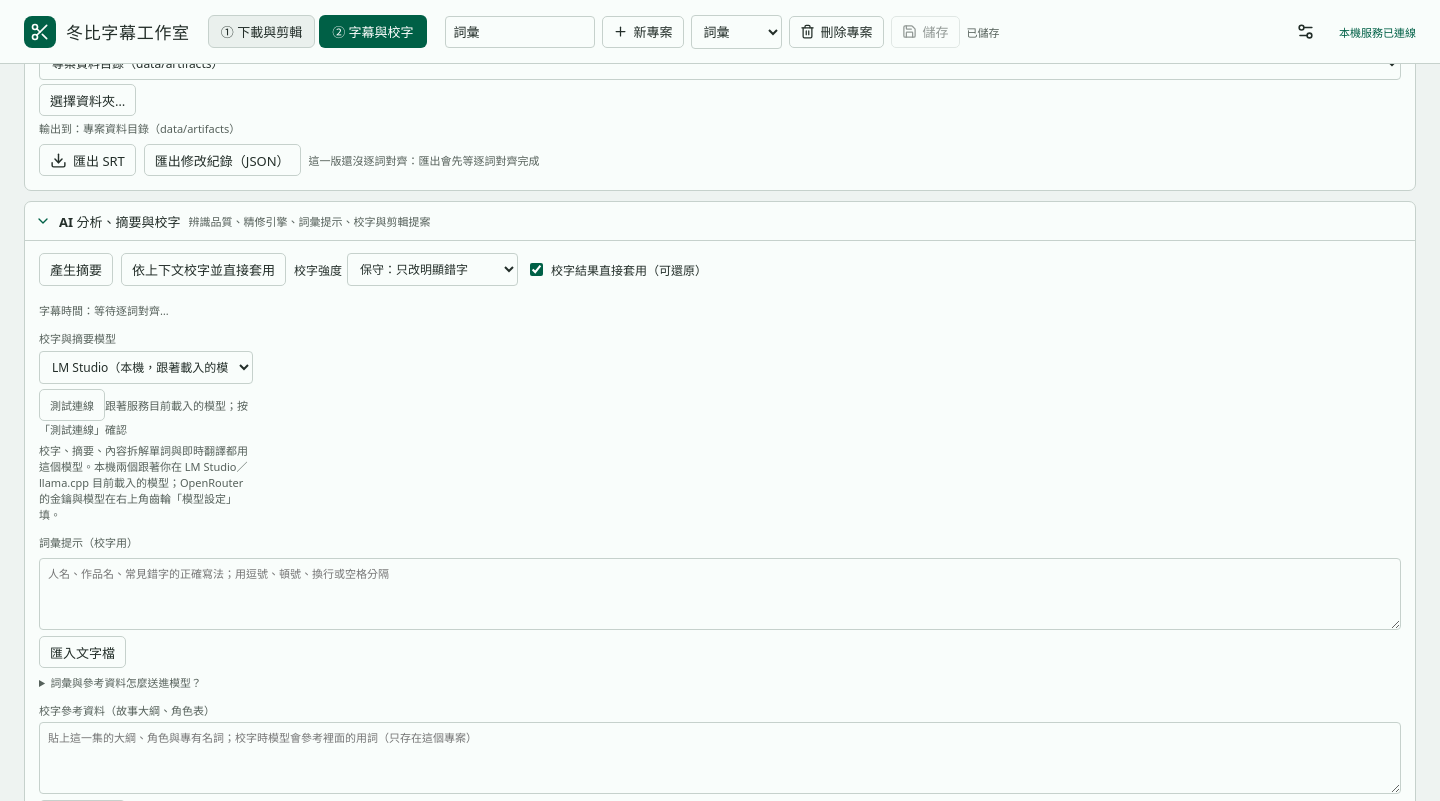
Test: offers only the three model ports and tests the connection to show what is loaded
(page scrolled)
Check: the button "依上下文校字並直接套用" is enabled, box [121,253,286,286]
Click the button "測試連線" at (72, 405), box [39,389,105,421]
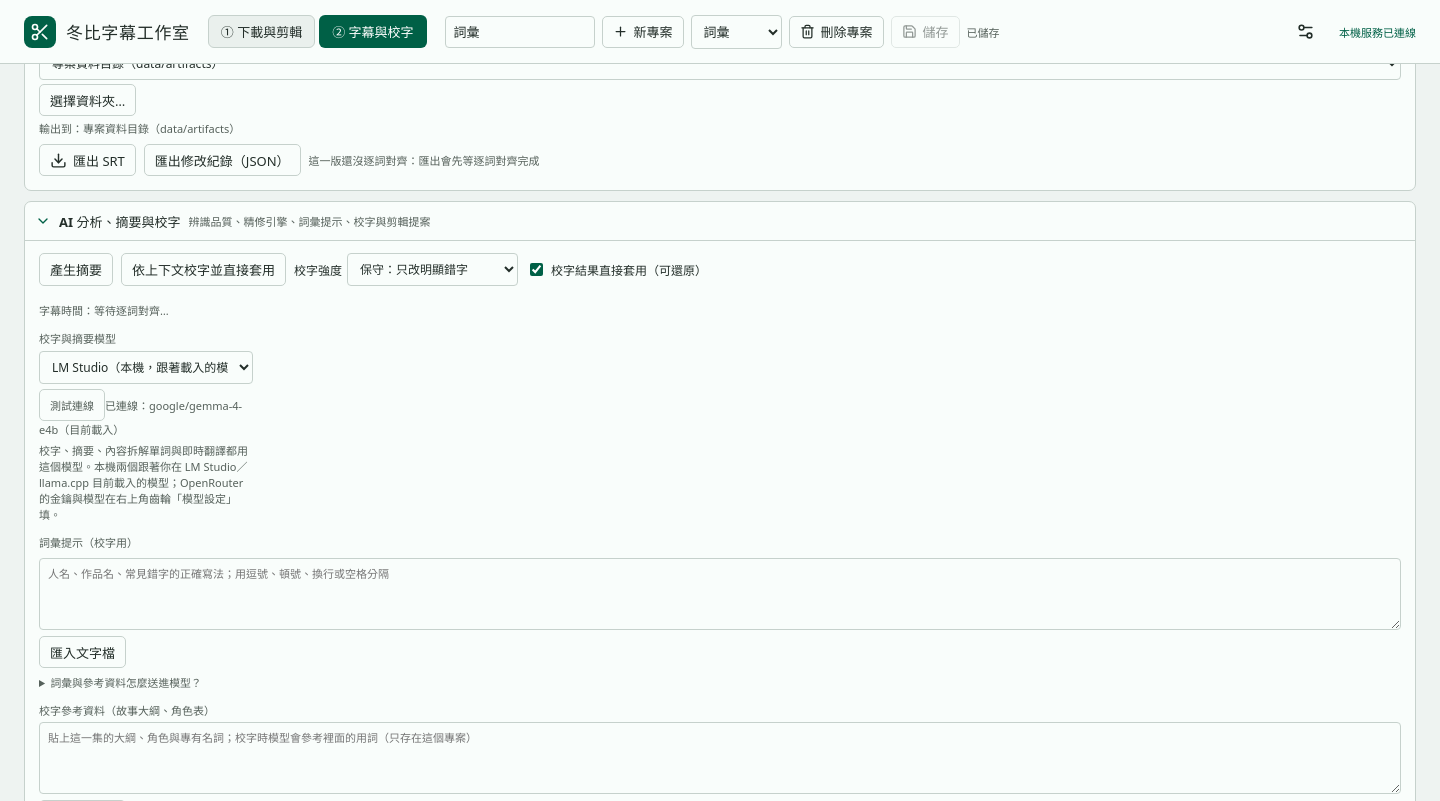
Check: the text "已連線：google/gemma-4-e4b（目前載入）" is shown, box [39,398,242,437]
遠端：看後台有沒有金鑰、用哪一個模型
Select "OpenRouter（遠端 API，需金鑰）" in the dropdown labelled "校字與摘要模型" at (146, 368), box [39,351,253,384]
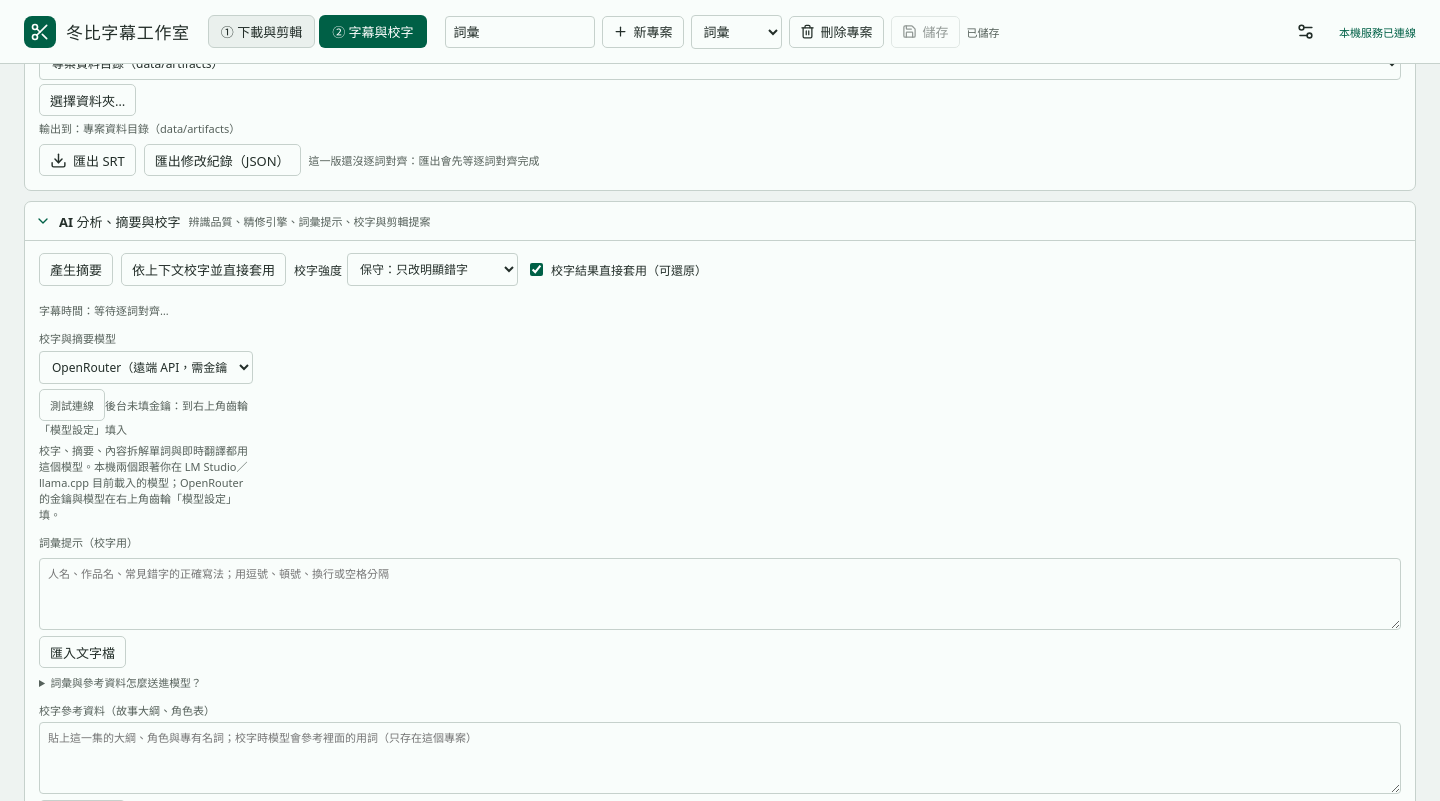
Check: the text "後台未填金鑰：到右上角齒輪「模型設定」填入" is shown, box [39,398,248,437]
